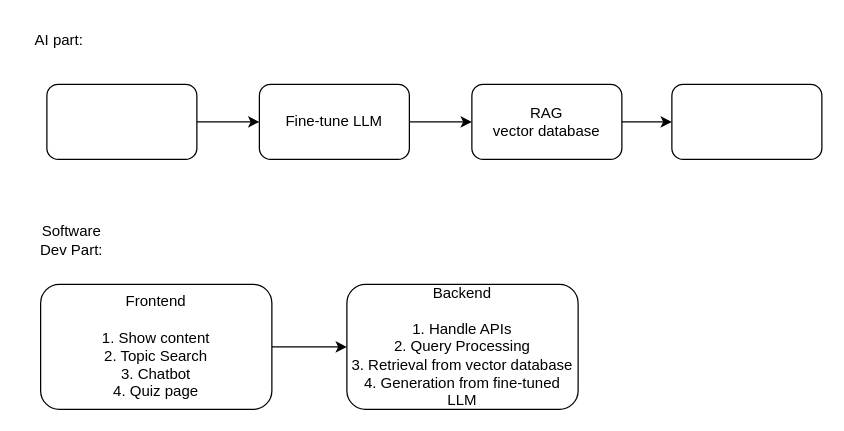
Some shapes in this 844 by 431 pixel diagram are drawn without their labels. The shapes that lost their labels are listed below. From the top down, each one's box as (x1, y1, x2, y2) in pixels, then its label:
(46, 83, 197, 159): Dataset
(671, 83, 822, 159): GEN AI for content creation
